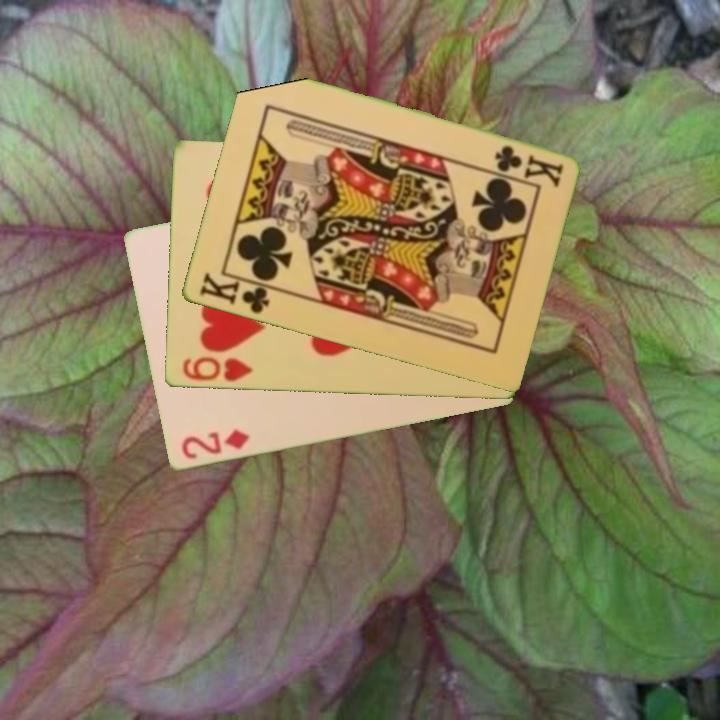2d: (177, 426, 252, 463)
6h: (178, 353, 254, 385)
Kc: (195, 269, 279, 317), (490, 142, 566, 188)
